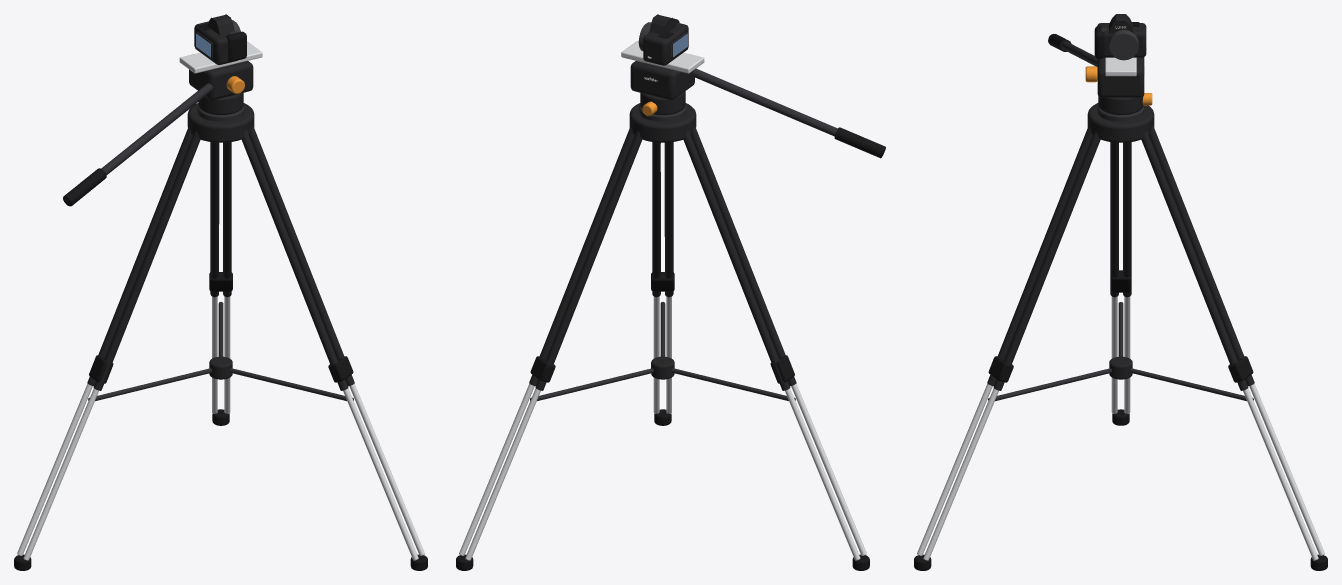
The model's file is panasonic_s5ii_tripie_video.glb.
3 views of the same model, side by side, from view 1: azimuth 30°, elevation 25°; view 2: azimuth 150°, elevation 25°; view 3: azimuth 270°, elevation 25° (orthographic).
Visible parts, largest first — view 1: Panasonic Lumix S5II en tripié de video; view 2: Panasonic Lumix S5II en tripié de video; view 3: Panasonic Lumix S5II en tripié de video.
Part boxes in pixels (box(x1,y1,x2,y2)): Panasonic Lumix S5II en tripié de video: box(14, 14, 427, 570); Panasonic Lumix S5II en tripié de video: box(456, 14, 885, 570); Panasonic Lumix S5II en tripié de video: box(914, 14, 1327, 570).
Bounding box in the file's own units: 0.9175 × 1.41 × 1.05.
